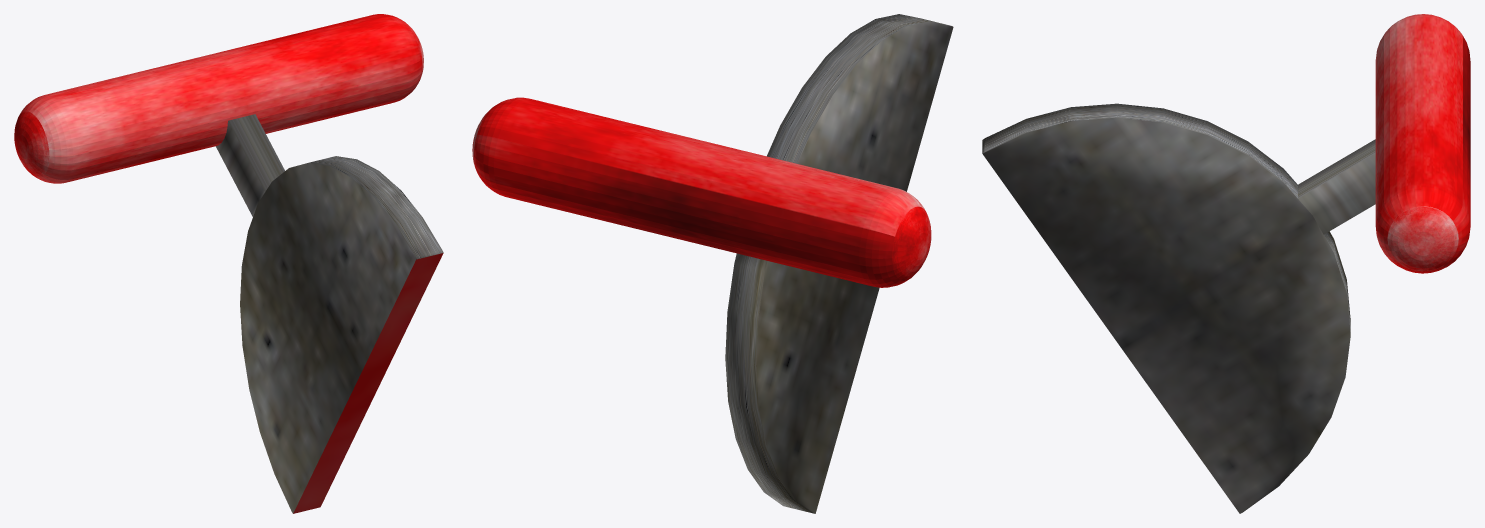
The model's file is Main_Switch_handle_only.fbx.
The picture shows the model from 3 angles, left to right: view 1: azimuth 30°, elevation 25°; view 2: azimuth 150°, elevation 25°; view 3: azimuth 270°, elevation 25°; orthographic projection. The views are drawn at different scales.
Visible parts, largest first — view 1: Cylinder; view 2: Cylinder; view 3: Cylinder.
Part boxes in pixels (left/top/right/bottom): Cylinder: left=14, top=14, right=443, bottom=513; Cylinder: left=472, top=14, right=953, bottom=513; Cylinder: left=982, top=14, right=1470, bottom=513.
Size of the model in its own units: 10 by 9.46 by 10.3.
Materials: 2 (2 with a texture image).
